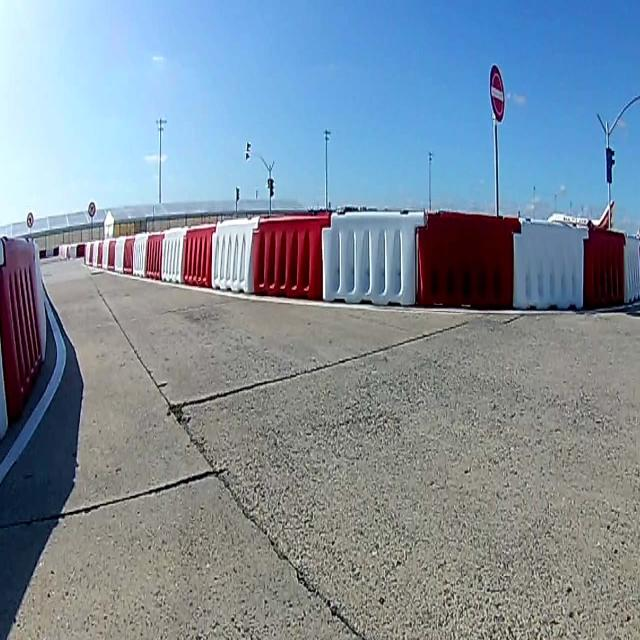girisyok: (489, 62, 507, 124)
